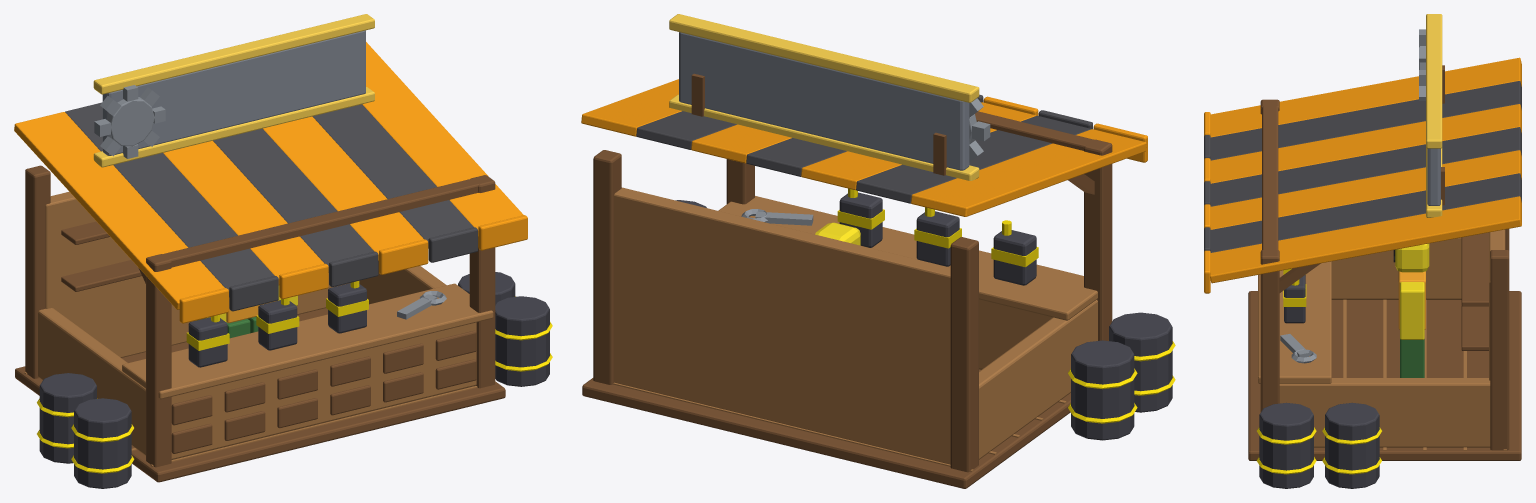
File: puesto_equipamientos.glb
3 views of the same model, side by side, from view 1: azimuth 30°, elevation 25°; view 2: azimuth 150°, elevation 25°; view 3: azimuth 270°, elevation 25° (orthographic). The views are drawn at different scales.
Visible parts, largest first — view 1: Puesto, Cartel, Vendedor; view 2: Puesto, Cartel, Vendedor; view 3: Puesto, Vendedor, Cartel.
Boxes of the visible parts, bbox=[...] form: Puesto: bbox=[14, 14, 552, 488]; Cartel: bbox=[102, 30, 365, 155]; Vendedor: bbox=[196, 285, 297, 338]; Puesto: bbox=[581, 14, 1175, 488]; Cartel: bbox=[679, 32, 969, 170]; Vendedor: bbox=[815, 222, 860, 245]; Puesto: bbox=[1204, 14, 1521, 488]; Vendedor: bbox=[1393, 243, 1429, 377]; Cartel: bbox=[1427, 148, 1440, 205].
Bounding box in the file's own units: 9.5 × 6.14 × 5.81.
1 material, 1 textured.
